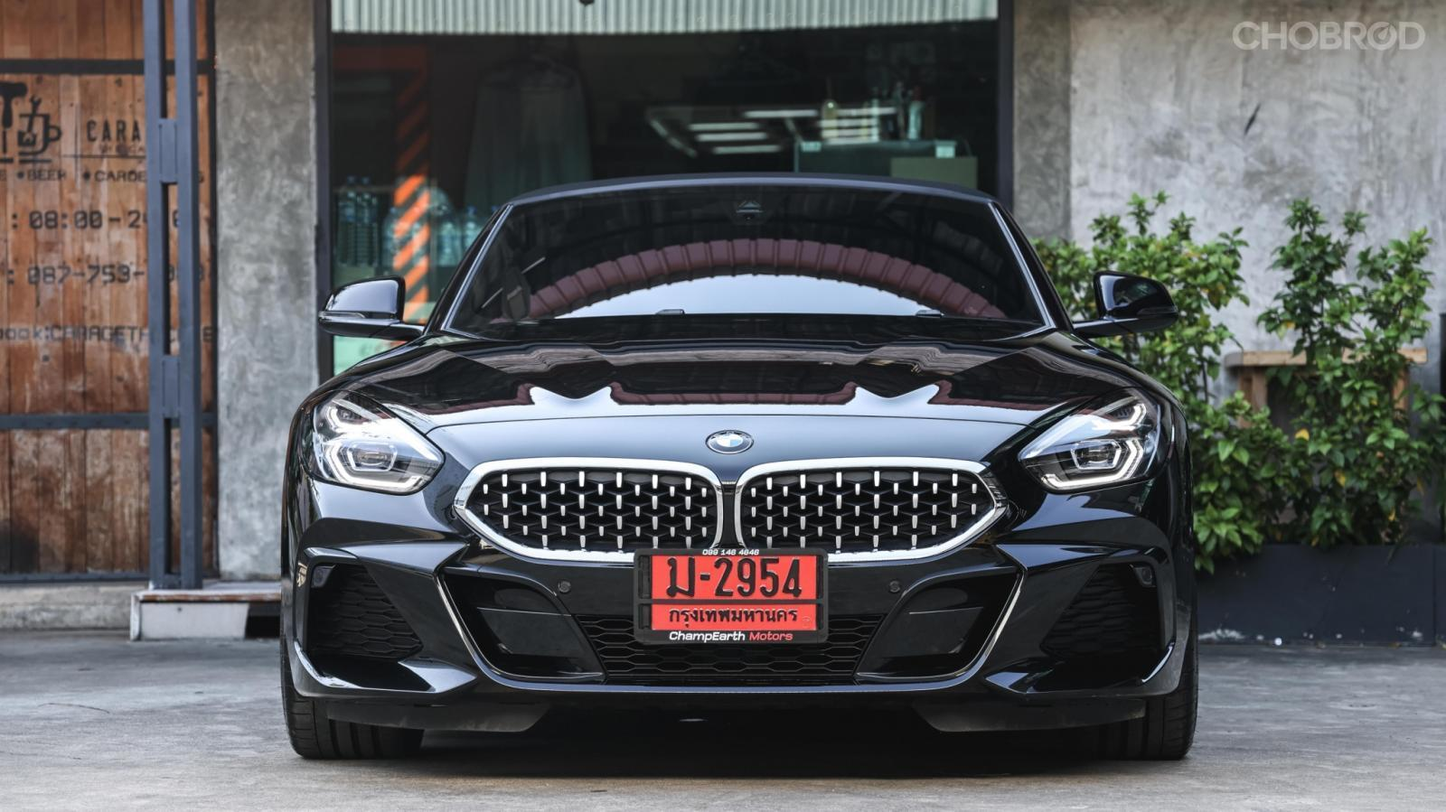license-plate: (627, 535, 844, 653)
